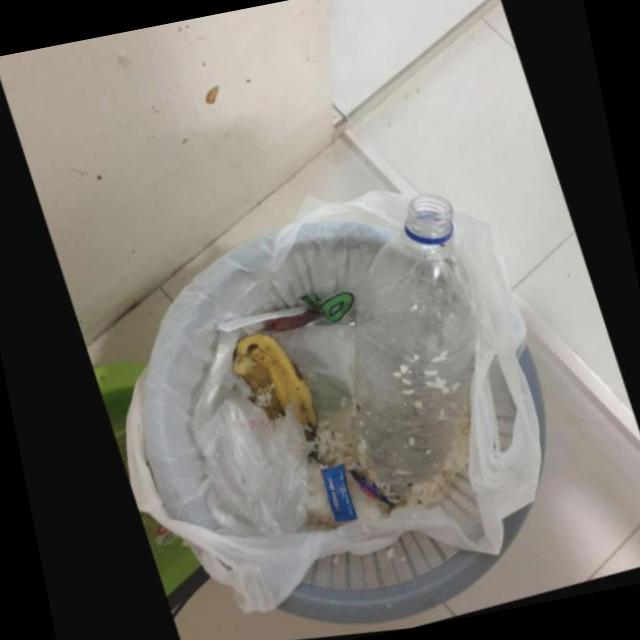bao_bi_thuc_pham: (321, 472, 358, 531)
chai_nhua_pet: (352, 200, 478, 514)
thuc_an_thua: (306, 462, 391, 531)
tui_ni_long: (186, 339, 309, 546)
vo_trai_cay: (231, 342, 319, 452)
